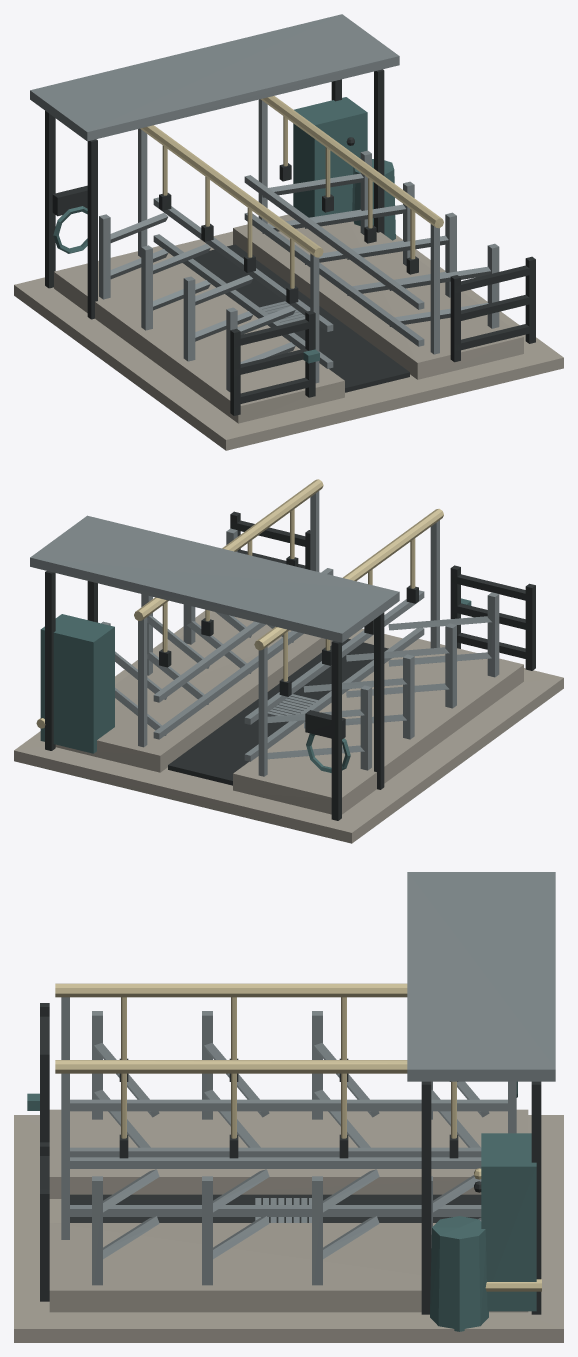
Rendered from Automated-Milking-Parlor.glb.
The picture shows the model from 3 angles, top to bottom: view 1: azimuth 30°, elevation 25°; view 2: azimuth 150°, elevation 25°; view 3: azimuth 270°, elevation 25°; orthographic projection. The views are drawn at different scales.
Visible parts, largest first — view 1: automated-milking-parlor-static-automated-milking-parlor-gal, automated-milking-parlor-static-automated-milking-parlor-pal, automated-milking-parlor-static-automated-milking-parlor-dar, automated-milking-parlor-static-automated-milking-parlor-mut, automated-milking-parlor-static-automated-milking-parlor-cre; view 2: automated-milking-parlor-static-automated-milking-parlor-pal, automated-milking-parlor-static-automated-milking-parlor-gal, automated-milking-parlor-static-automated-milking-parlor-dar, automated-milking-parlor-static-automated-milking-parlor-mut, automated-milking-parlor-static-automated-milking-parlor-cre; view 3: automated-milking-parlor-static-automated-milking-parlor-pal, automated-milking-parlor-static-automated-milking-parlor-gal, automated-milking-parlor-static-automated-milking-parlor-mut, automated-milking-parlor-static-automated-milking-parlor-cre, automated-milking-parlor-static-automated-milking-parlor-dar.
Part boxes in pixels (x1=…): automated-milking-parlor-static-automated-milking-parlor-gal: x1=30, y1=14, x2=499, y2=391; automated-milking-parlor-static-automated-milking-parlor-pal: x1=14, y1=214, x2=563, y2=450; automated-milking-parlor-static-automated-milking-parlor-dar: x1=45, y1=69, x2=535, y2=415; automated-milking-parlor-static-automated-milking-parlor-mut: x1=53, y1=97, x2=395, y2=363; automated-milking-parlor-static-automated-milking-parlor-cre: x1=140, y1=96, x2=443, y2=288; automated-milking-parlor-static-automated-milking-parlor-pal: x1=14, y1=610, x2=563, y2=843; automated-milking-parlor-static-automated-milking-parlor-gal: x1=30, y1=491, x2=499, y2=776; automated-milking-parlor-static-automated-milking-parlor-dar: x1=45, y1=511, x2=535, y2=820; automated-milking-parlor-static-automated-milking-parlor-mut: x1=40, y1=598, x2=471, y2=772; automated-milking-parlor-static-automated-milking-parlor-cre: x1=36, y1=479, x2=443, y2=728; automated-milking-parlor-static-automated-milking-parlor-pal: x1=14, y1=1109, x2=563, y2=1342; automated-milking-parlor-static-automated-milking-parlor-gal: x1=61, y1=872, x2=555, y2=1285; automated-milking-parlor-static-automated-milking-parlor-mut: x1=27, y1=1081, x2=536, y2=1331; automated-milking-parlor-static-automated-milking-parlor-cre: x1=55, y1=983, x2=541, y2=1291; automated-milking-parlor-static-automated-milking-parlor-dar: x1=40, y1=1003, x2=541, y2=1314.
Size of the model in its own units: 4.62 by 2.66 by 5.
